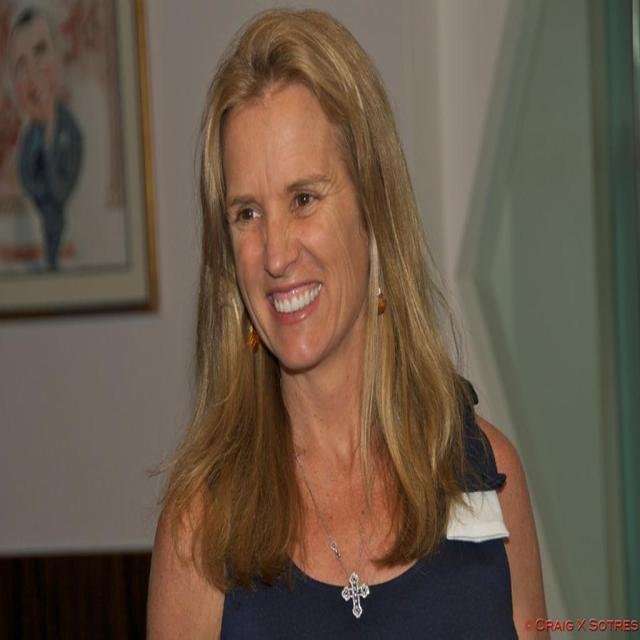Face: (205, 79, 359, 372)
